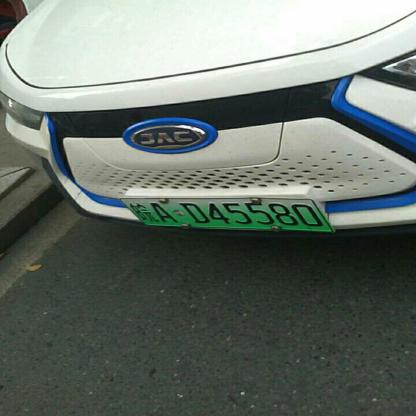lp: (120, 198, 333, 231)
